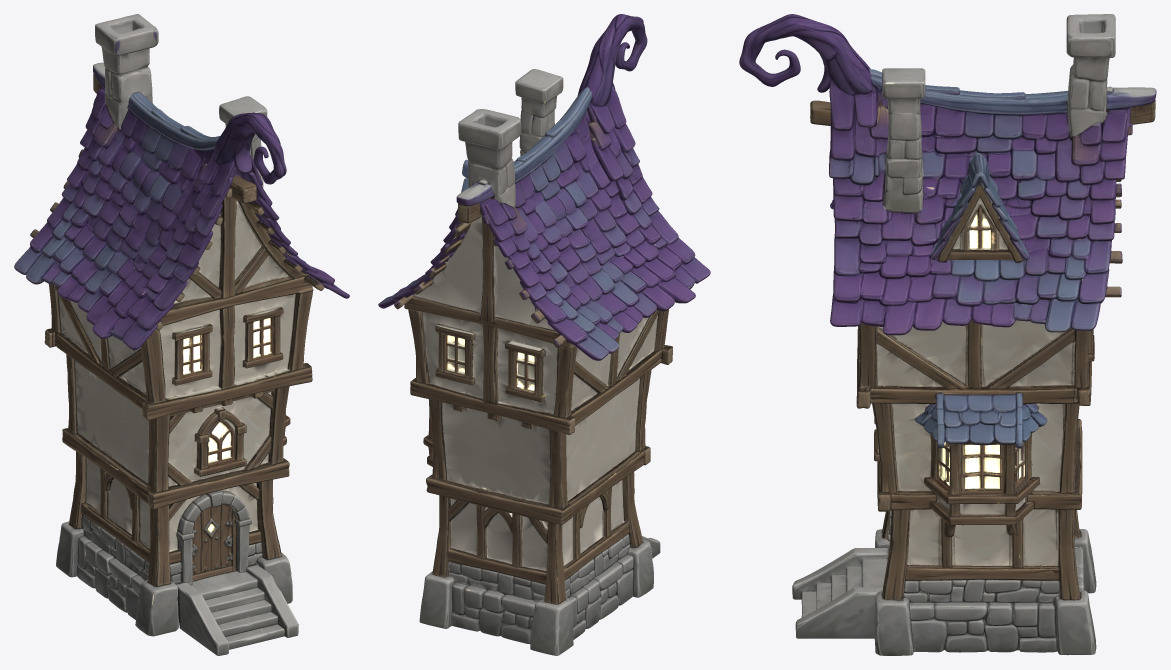
File: SilverHome_300k.glb
The picture shows the model from 3 angles, left to right: view 1: azimuth 30°, elevation 25°; view 2: azimuth 150°, elevation 25°; view 3: azimuth 270°, elevation 25°; orthographic projection. The views are drawn at different scales.
Visible parts, largest first — view 1: Mesh_0; view 2: Mesh_0; view 3: Mesh_0.
Part boxes in pixels (box(x1,y1,x2,y2)): Mesh_0: box(14, 14, 349, 655); Mesh_0: box(378, 14, 710, 655); Mesh_0: box(739, 14, 1156, 655).
Bounding box in the file's own units: 0.879 × 1.9 × 1.2.
Materials: 1 (1 with a texture image).
